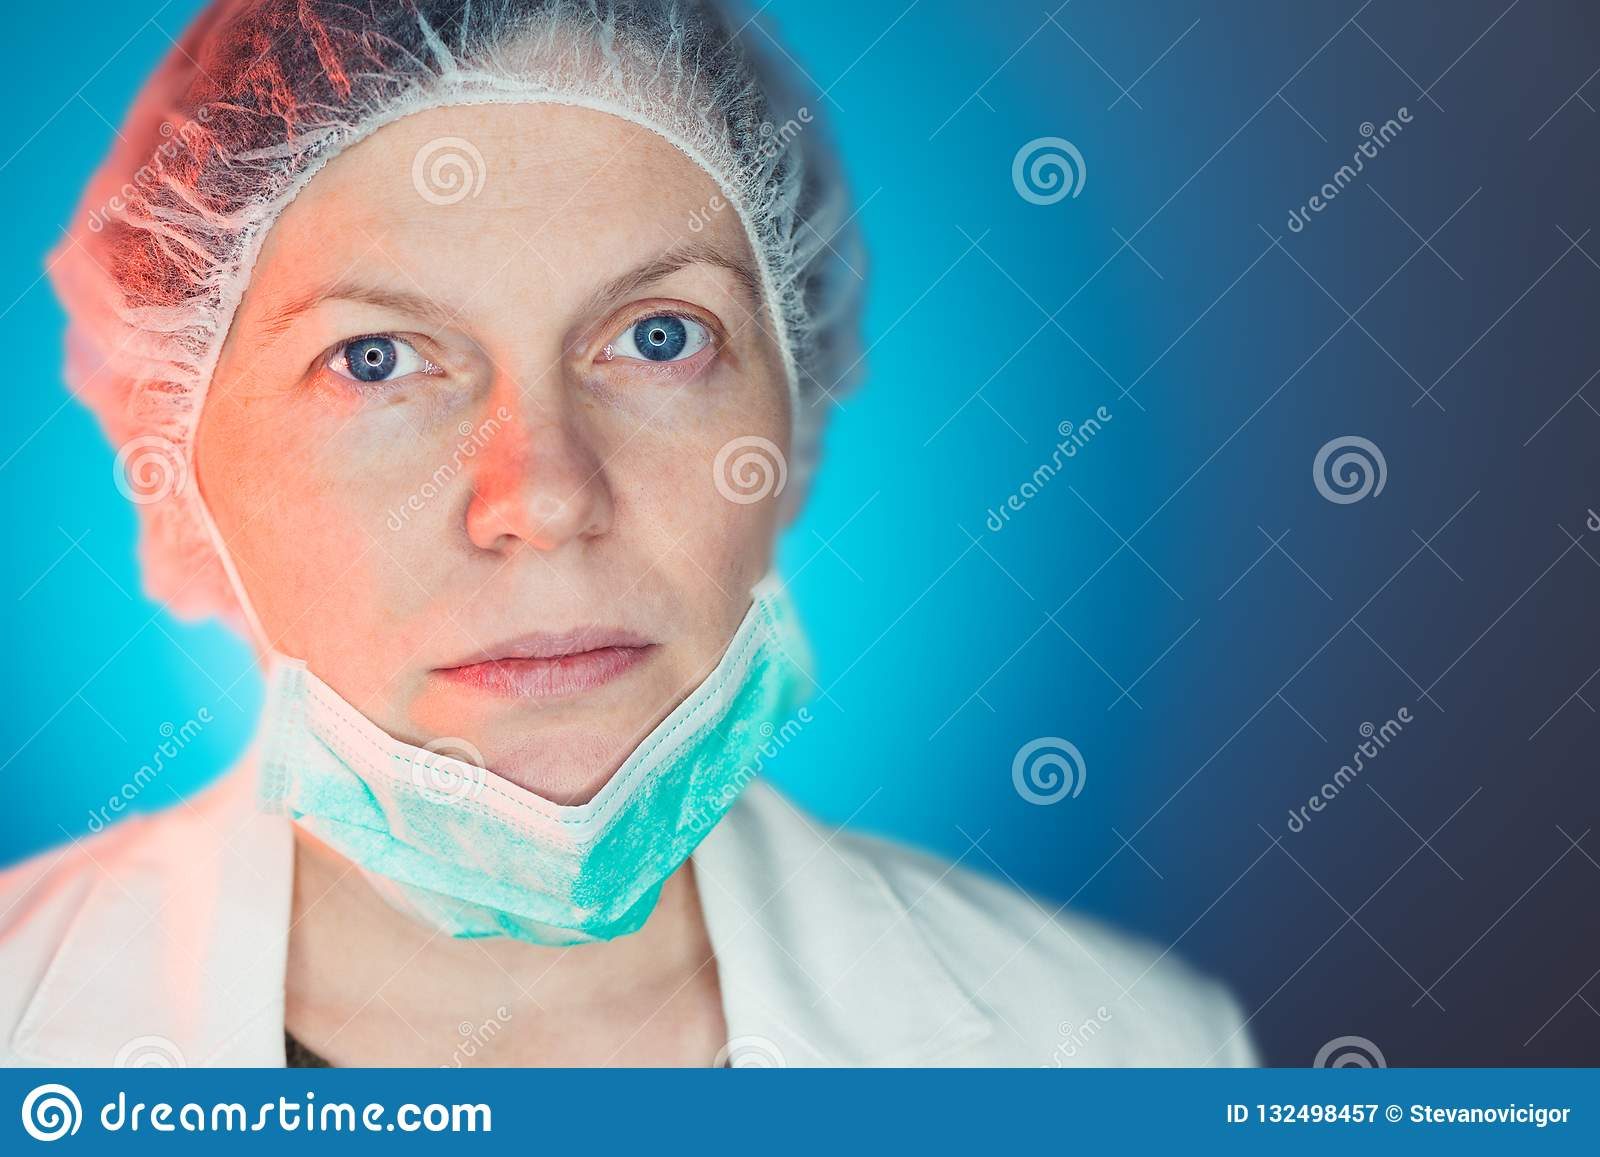mask: (260, 659, 835, 964)
